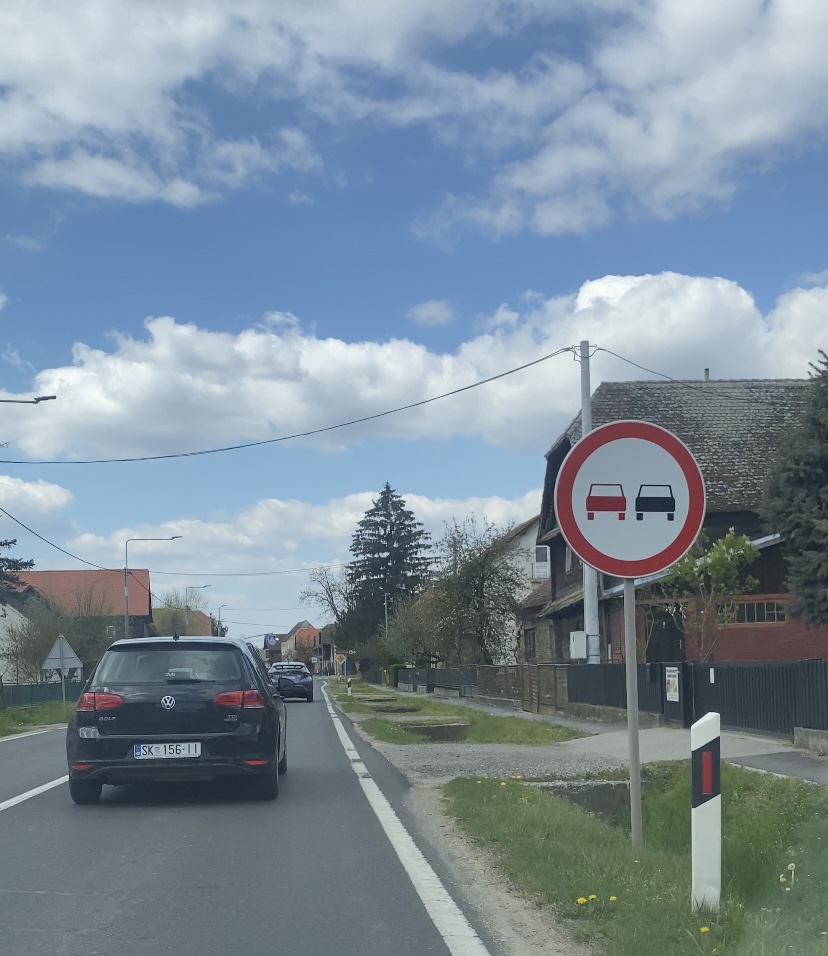Zabrana pretjecanja: (554, 419, 706, 578)
